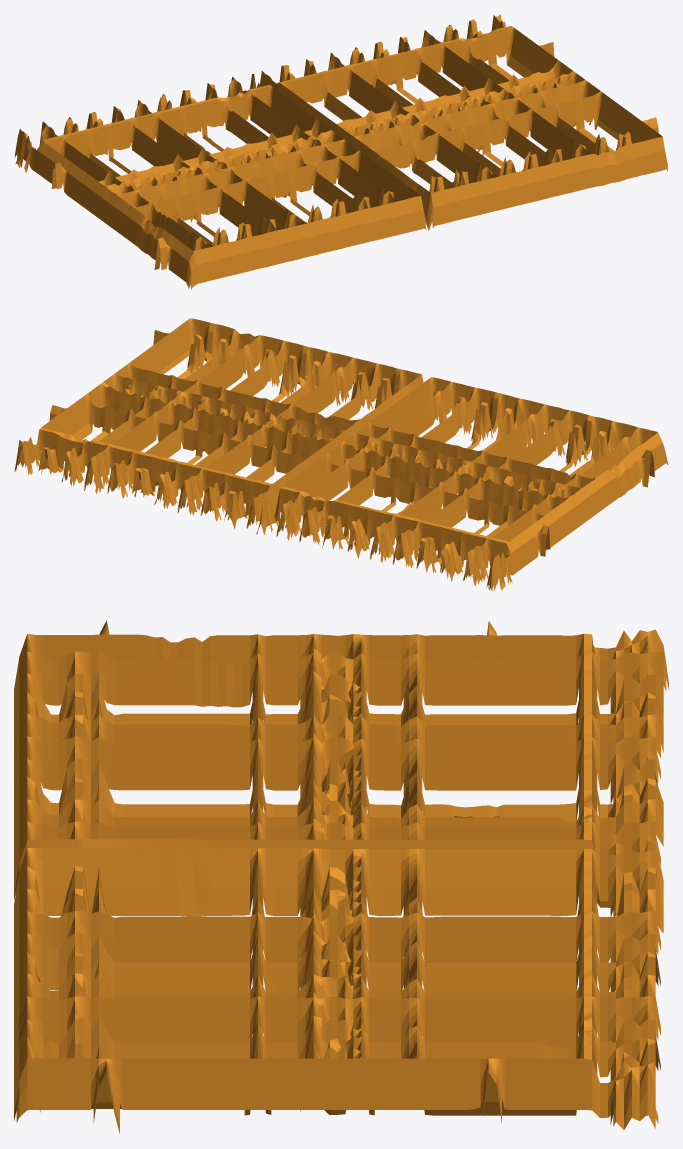
File: wall2.glb
The picture shows the model from 3 angles, top to bottom: view 1: azimuth 30°, elevation 25°; view 2: azimuth 150°, elevation 25°; view 3: azimuth 270°, elevation 25°; orthographic projection. The views are drawn at different scales.
Visible parts, largest first — view 1: Plane; view 2: Plane; view 3: Plane.
Boxes of the visible parts, x1,y1,x2,y2 form: Plane: (15,14,668,289); Plane: (14,318,668,590); Plane: (14,620,668,1133).
Bounding box in the file's own units: 3.3 × 0.2212 × 2.02.
